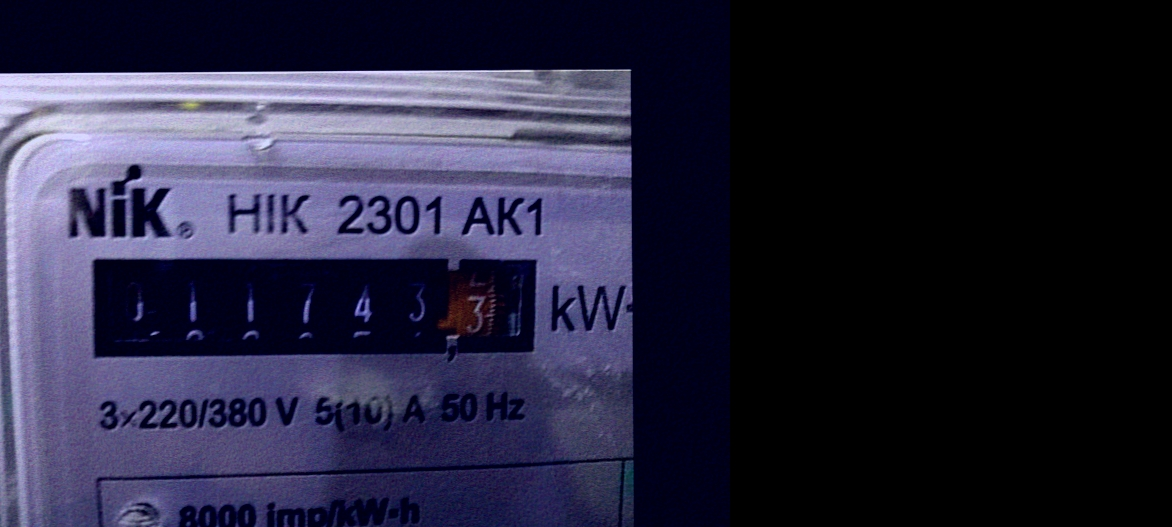0: (120, 277, 149, 324)
1: (240, 277, 261, 325), (185, 278, 202, 326)
3: (404, 278, 432, 325), (464, 292, 488, 336)
4: (350, 277, 378, 326)
7: (296, 279, 320, 327)
screen: (77, 246, 544, 367)
